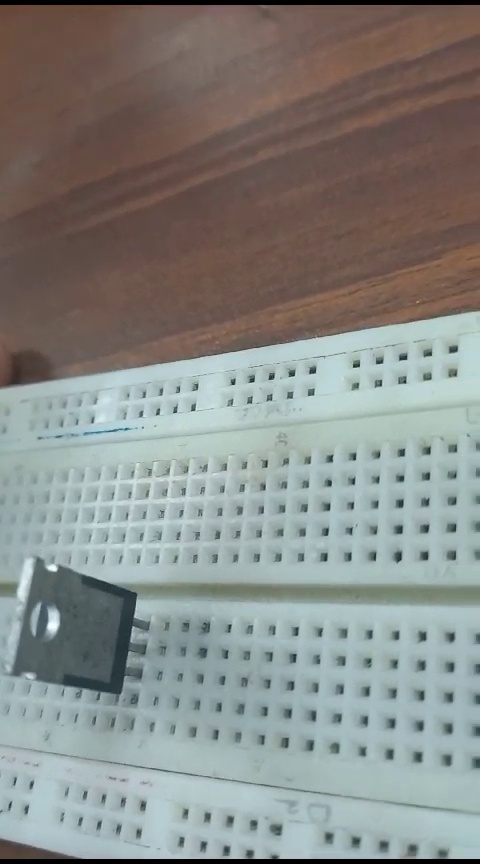voltage regulator: (8, 551, 152, 703)
